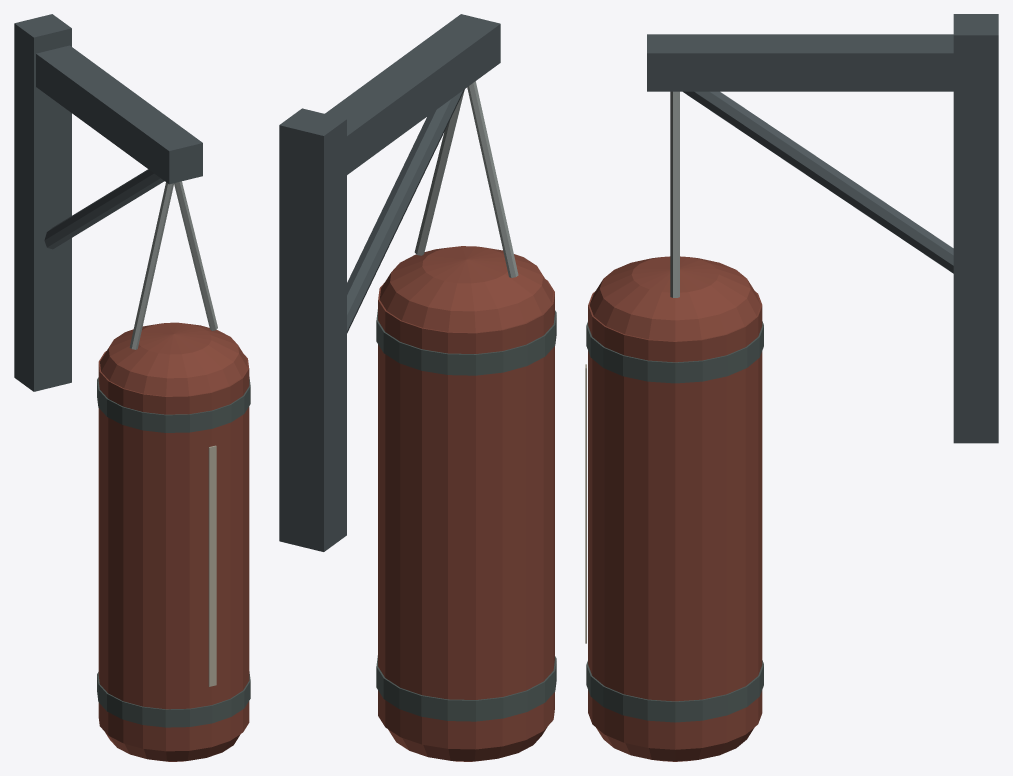
File: heavy_bag.glb
3 views of the same model, side by side, from view 1: azimuth 30°, elevation 25°; view 2: azimuth 150°, elevation 25°; view 3: azimuth 270°, elevation 25° (orthographic). The views are drawn at different scales.
Visible parts, largest first — view 1: heavy_bag_Leather, heavy_bag_Steel, heavy_bag_Ink, heavy_bag_SteelEdge, heavy_bag_CanvasEdge; view 2: heavy_bag_Leather, heavy_bag_Steel, heavy_bag_Ink, heavy_bag_SteelEdge; view 3: heavy_bag_Leather, heavy_bag_Steel, heavy_bag_Ink, heavy_bag_SteelEdge.
Boxes of the visible parts, x1,y1,x2,y2 form: heavy_bag_Leather: (98,322,249,761); heavy_bag_Steel: (14,14,202,391); heavy_bag_Ink: (97,377,250,727); heavy_bag_SteelEdge: (129,181,217,349); heavy_bag_CanvasEdge: (208,445,216,686); heavy_bag_Leather: (378,246,554,761); heavy_bag_Steel: (279,14,500,551); heavy_bag_Ink: (376,309,556,721); heavy_bag_SteelEdge: (414,81,518,277); heavy_bag_Leather: (588,256,762,761); heavy_bag_Steel: (647,14,998,443); heavy_bag_Ink: (586,321,763,722); heavy_bag_SteelEdge: (670,91,679,297).
Bounding box in the file's own units: 0.632 × 2.84 × 1.47.
